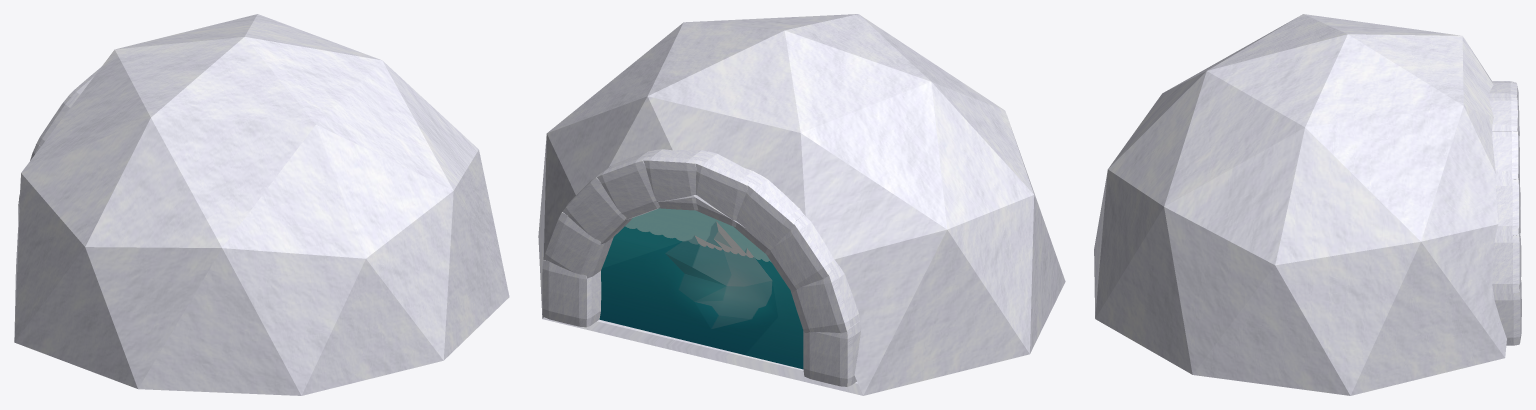
The model's file is Starting Map.fbx.
3 renders of one model, left to right at view 1: azimuth 30°, elevation 25°; view 2: azimuth 150°, elevation 25°; view 3: azimuth 270°, elevation 25°, orthographic. The views are drawn at different scales.
Visible parts, largest first — view 1: Icosphere, Igloo Enter; view 2: Icosphere, Igloo Enter; view 3: Icosphere, Igloo Enter.
Boxes of the visible parts, x1,y1,x2,y2 form: Icosphere: (14, 14, 509, 395); Igloo Enter: (18, 67, 100, 220); Icosphere: (538, 14, 1065, 395); Igloo Enter: (542, 149, 860, 386); Icosphere: (1094, 14, 1519, 395); Igloo Enter: (1489, 81, 1521, 345).
Size of the model in its own units: 489 by 254 by 393.
